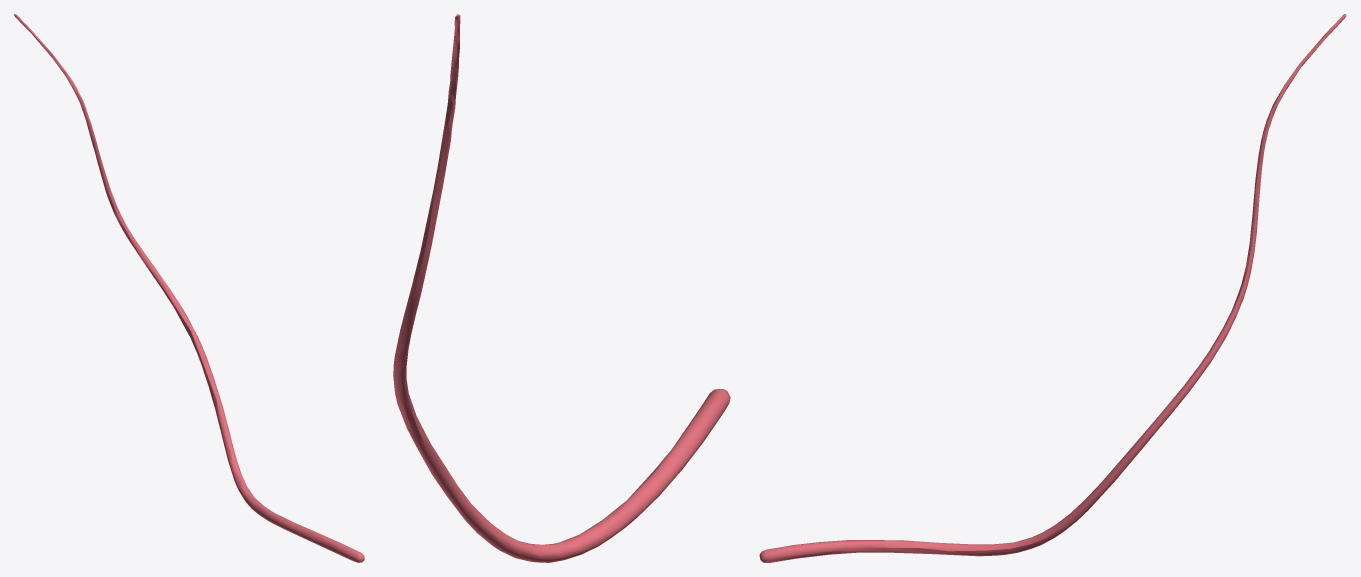
Rendered from fma50357_fj1698.glb.
3 views of the same model, side by side, from view 1: azimuth 30°, elevation 25°; view 2: azimuth 150°, elevation 25°; view 3: azimuth 270°, elevation 25° (orthographic). The views are drawn at different scales.
Parts seen in each view (by area): view 1: FMA50357_FJ1698; view 2: FMA50357_FJ1698; view 3: FMA50357_FJ1698.
Boxes of the visible parts, bbox=[...] form: FMA50357_FJ1698: bbox=[14, 14, 364, 562]; FMA50357_FJ1698: bbox=[393, 14, 730, 562]; FMA50357_FJ1698: bbox=[759, 14, 1346, 562].
Size of the model in its own units: 0.00862 by 0.03 by 0.0326.
